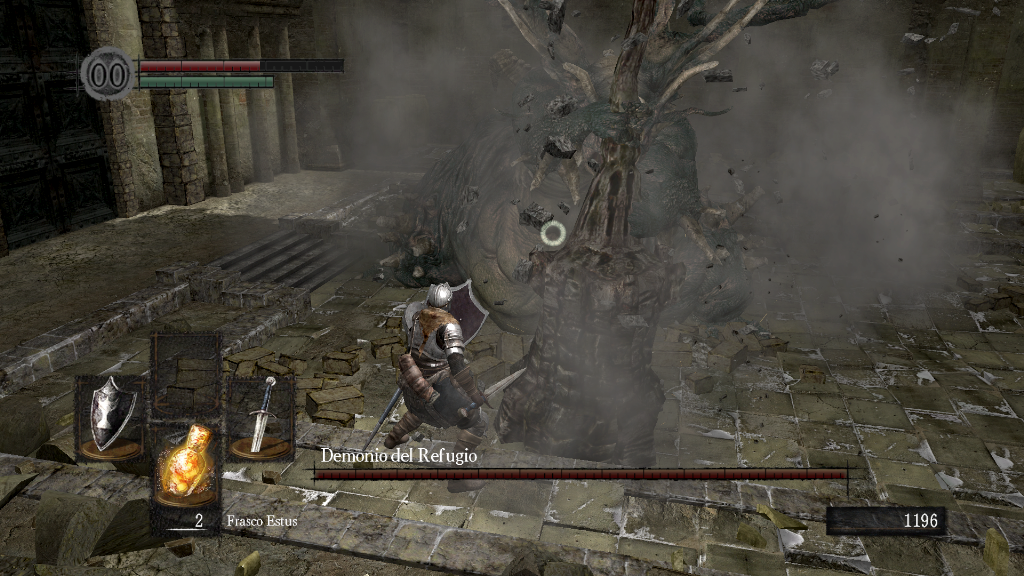asylumDemon: (382, 1, 828, 467)
bossHP: (314, 469, 847, 479)
health: (138, 58, 343, 71)
humanity: (80, 45, 136, 102)
player: (383, 278, 528, 494)
souls: (825, 506, 945, 536)
stamina: (138, 74, 274, 88)
